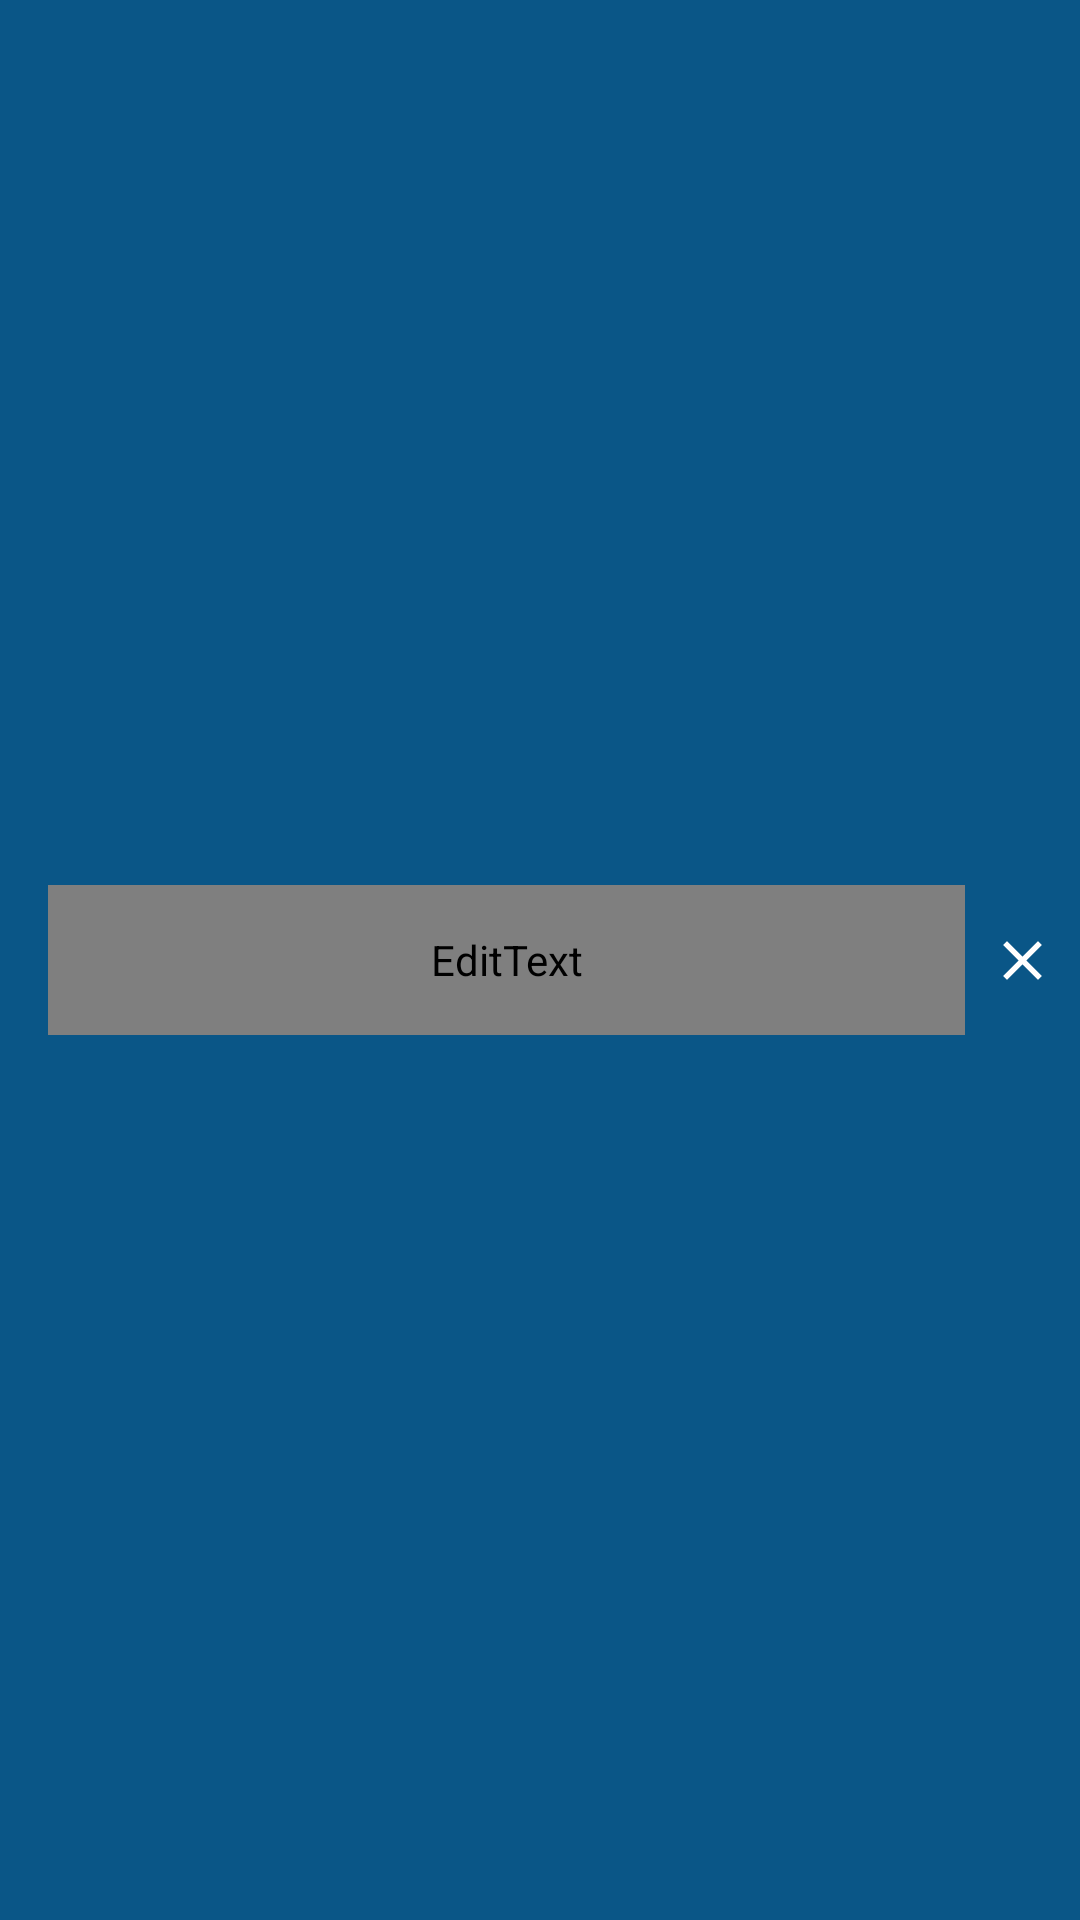

Where icons sit on this 1080*1920 app screen, as (x1, y1, x2, y2):
close: (1003, 941, 1042, 980)
